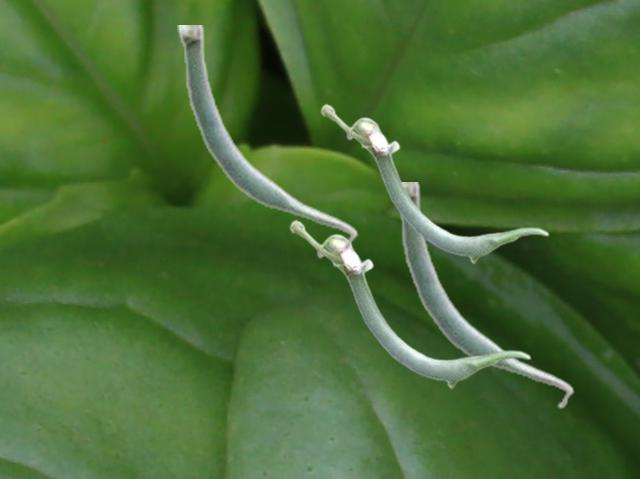french_bean: (177, 25, 357, 252), (289, 219, 530, 388), (396, 182, 573, 409), (320, 103, 548, 263)
